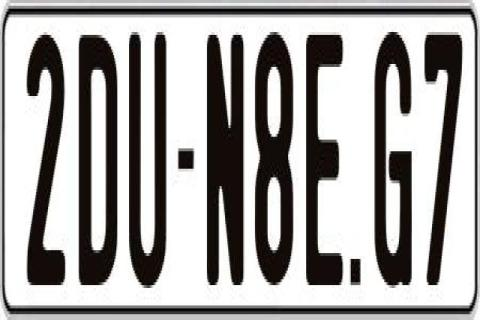0: (252, 23, 295, 285), (24, 29, 68, 282), (424, 26, 460, 291)
D: (78, 26, 116, 291)
E: (303, 35, 346, 303)
G: (374, 23, 416, 276)
N: (204, 35, 245, 288)
U: (128, 29, 170, 297)
